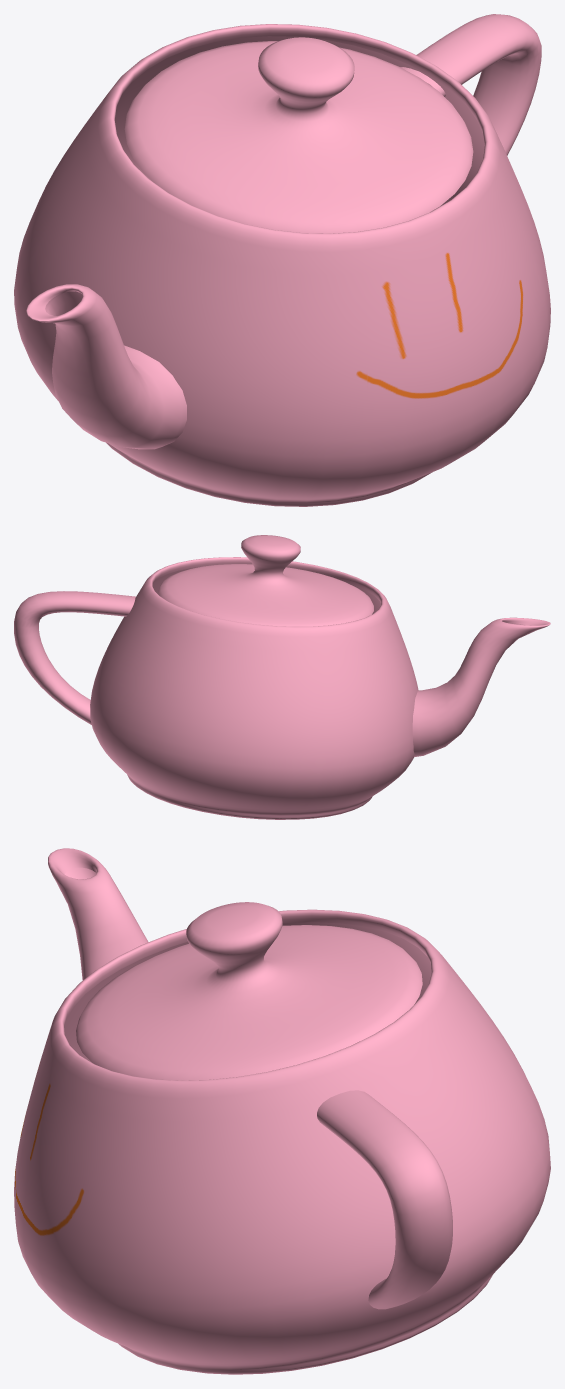
Rendered from teapot.glb.
3 renders of one model, top to bottom at view 1: azimuth 30°, elevation 25°; view 2: azimuth 150°, elevation 25°; view 3: azimuth 270°, elevation 25°, orthographic. The views are drawn at different scales.
Parts seen in each view (by area): view 1: node_id3; view 2: node_id3; view 3: node_id3.
Part boxes in pixels (bbox=[...]): node_id3: bbox=[14, 14, 550, 506]; node_id3: bbox=[14, 535, 550, 819]; node_id3: bbox=[14, 848, 550, 1374].
Size of the model in its own units: 0.7535 by 0.4223 by 0.5091.
1 material, 1 textured.
